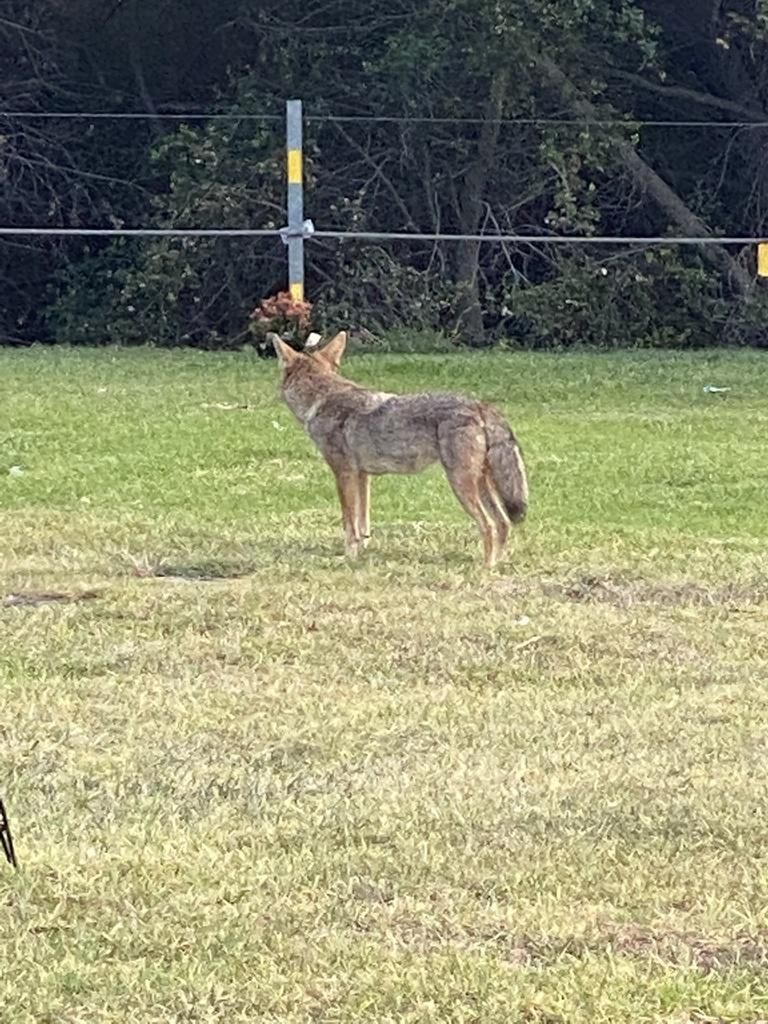Coyote: (267, 331, 533, 569)
